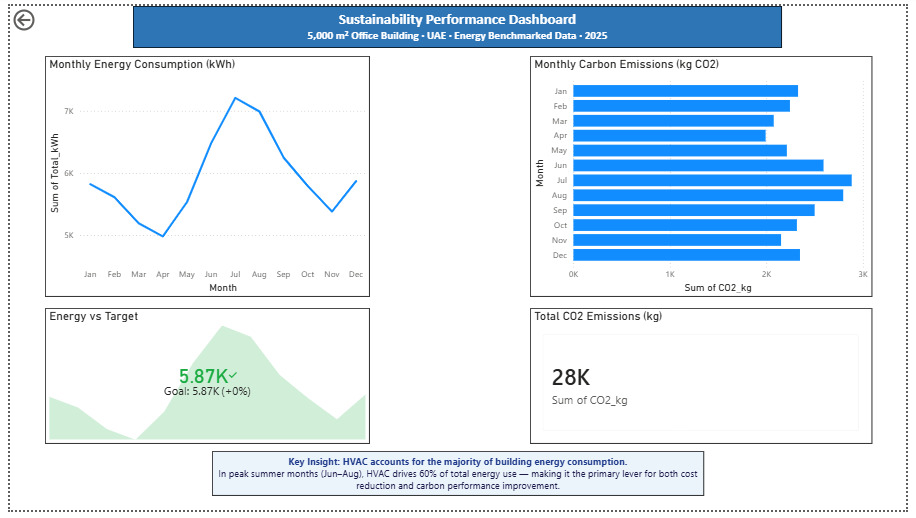

Layout of this report page (visuals, bound fields, positions):
{"tool":"powerbi","page":{"name":"Sustainability Performance Dashboard","canvas":[1280,720],"ordinal":0},"visuals":[{"type":"actionButton","box":[0,0,100,40],"z":0},{"type":"lineChart","title":"Monthly Energy Consumption (kWh)","fields":{"Category":["energy_data.Month"],"Y":["Sum(energy_data.Total_kWh)"]},"box":[50.5,71.7,576.5,322.8],"z":1000},{"type":"clusteredBarChart","title":"Monthly Carbon Emissions (kg CO2)","fields":{"Category":["energy_data.Month"],"Y":["Sum(energy_data.Emissions_kgCO2e)"]},"box":[660.2,71.7,571.2,322.8],"z":2000},{"type":"textbox","box":[288.6,635.7,702.9,64.3],"z":4000},{"type":"textbox","box":[175.7,0,927.1,60],"z":5000},{"type":"kpi","title":"Energy vs Target","fields":{"Goal":["Avg(energy_data.Total_kWh)"],"Indicator":["Avg(energy_data.Total_kWh)"],"TrendLine":["energy_data.Month"]},"box":[338.7,406.5,607.1,207.2],"z":6000}]}

Visuals, with their boxes in screenshot pixels (x1, y1, x2, y2), scaled from the page's 1280x720 canvas onto the 916x518 screenshot:
actionButton: 0 0 72 29
"Monthly Energy Consumption (kWh)" lineChart: 36 52 449 284
"Monthly Carbon Emissions (kg CO2)" clusteredBarChart: 472 52 881 284
textbox: 207 457 710 504
textbox: 126 0 789 43
"Energy vs Target" kpi: 242 292 677 442
